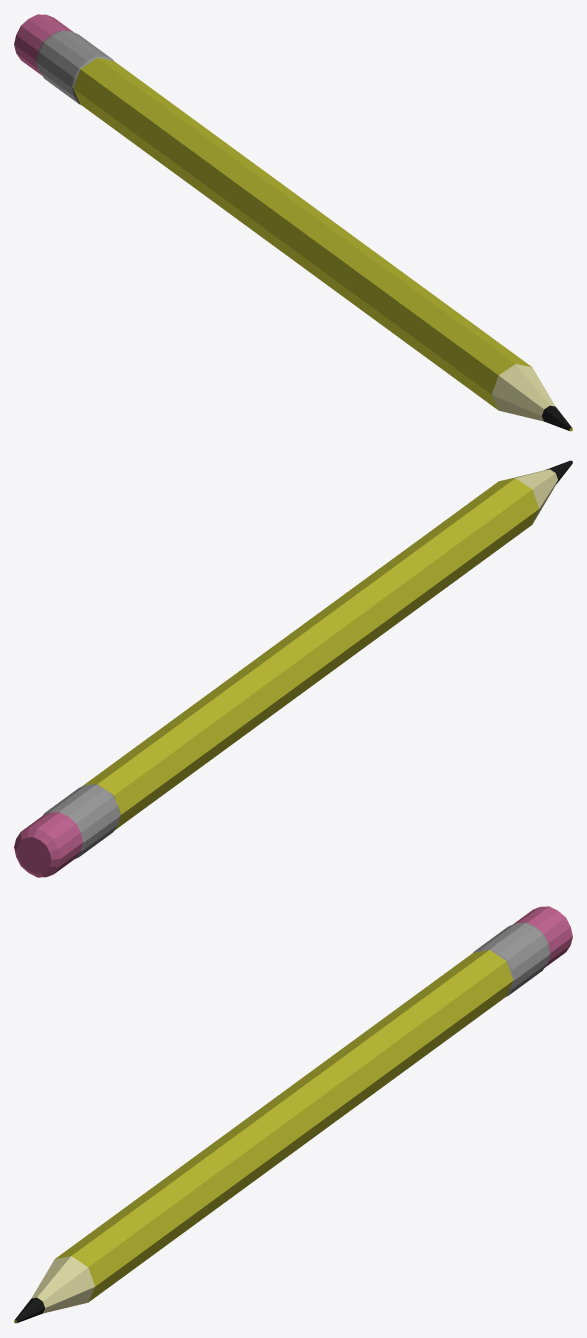
The model's file is pencilFbx.fbx.
The picture shows the model from 3 angles, top to bottom: view 1: azimuth 30°, elevation 25°; view 2: azimuth 150°, elevation 25°; view 3: azimuth 330°, elevation 25°; orthographic projection.
Parts seen in each view (by area): view 1: pencil; view 2: pencil; view 3: pencil.
Boxes of the visible parts, left/top/right/bottom form: pencil: left=14, top=14, right=572, bottom=431; pencil: left=14, top=460, right=572, bottom=877; pencil: left=14, top=906, right=572, bottom=1323.
Size of the model in its own units: 0.00381 by 0.00381 by 0.0729.
